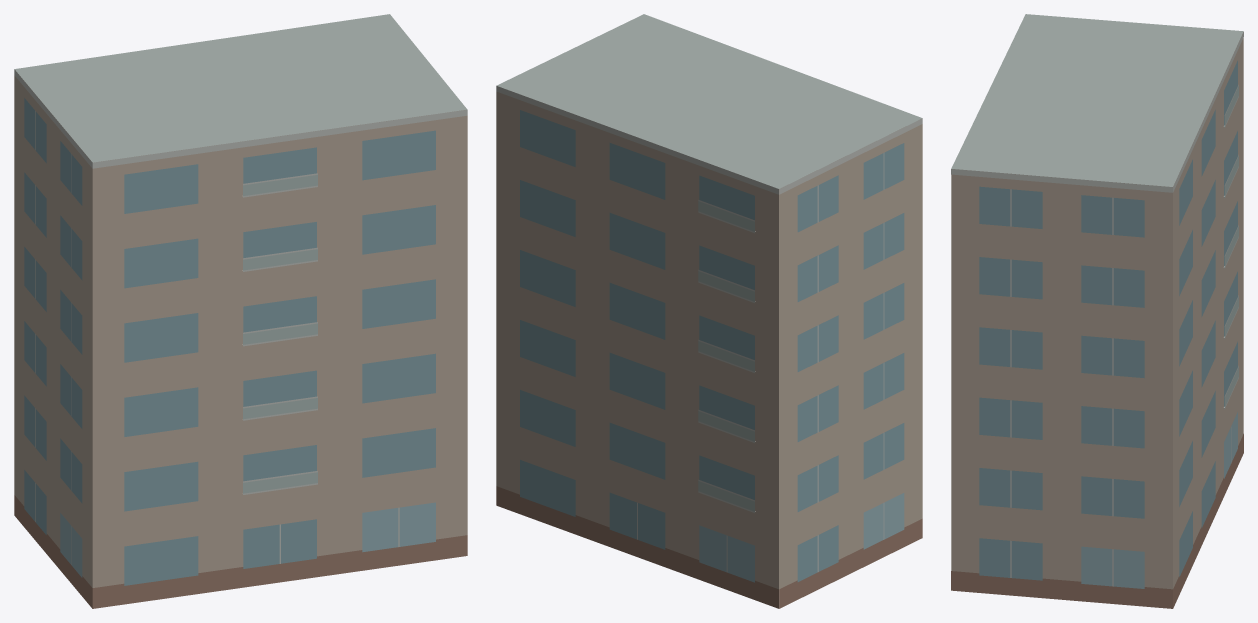
Rendered from survey-upis-32966247.glb.
The picture shows the model from 3 angles, left to right: view 1: azimuth 30°, elevation 25°; view 2: azimuth 150°, elevation 25°; view 3: azimuth 270°, elevation 25°; orthographic projection. The views are drawn at different scales.
Visible parts, largest first — view 1: survey-upis-32966247.tmp; view 2: survey-upis-32966247.tmp; view 3: survey-upis-32966247.tmp.
Part boxes in pixels (x1,y1,x2,y2): survey-upis-32966247.tmp: [14, 14, 467, 608]; survey-upis-32966247.tmp: [496, 14, 922, 608]; survey-upis-32966247.tmp: [951, 14, 1243, 608].
Bounding box in the file's own units: 15.76 × 17.9 × 11.27.
